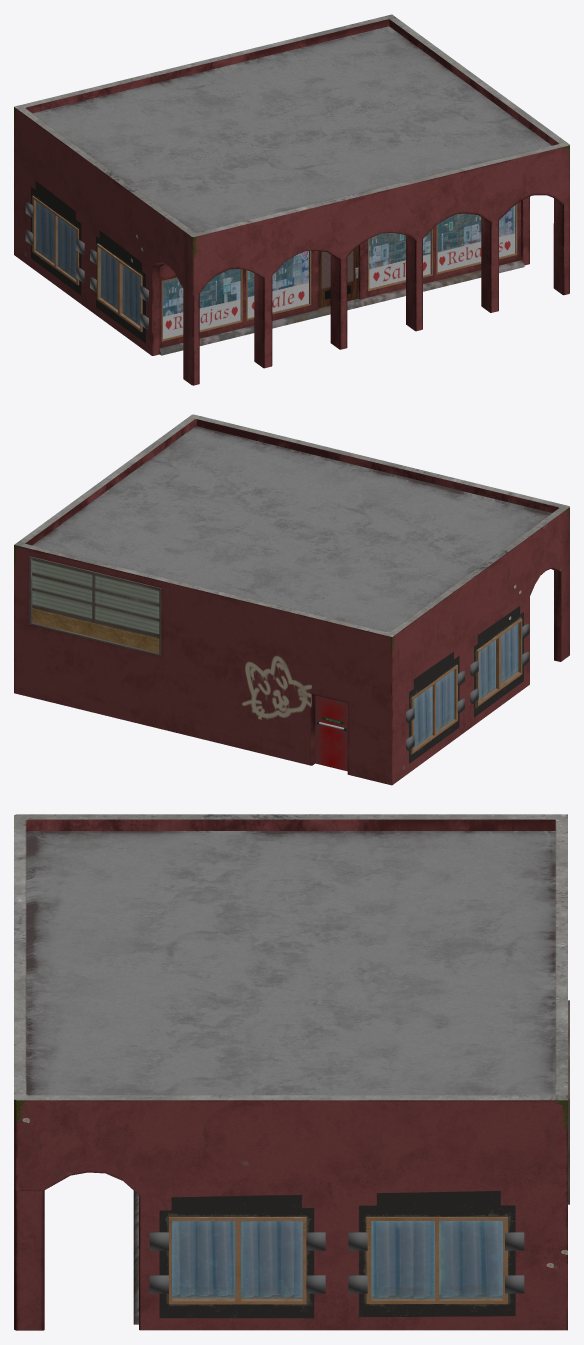
File: BaseBuilding.fbx
3 renders of one model, top to bottom at view 1: azimuth 30°, elevation 25°; view 2: azimuth 150°, elevation 25°; view 3: azimuth 270°, elevation 25°, orthographic. The views are drawn at different scales.
Parts seen in each view (by area): view 1: Sides; view 2: Sides; view 3: Sides.
Part boxes in pixels (x1,y1,x2,y2): Sides: (14, 14, 569, 385); Sides: (14, 414, 569, 785); Sides: (14, 814, 569, 1330).
Size of the model in its own units: 1733 by 643 by 1407.
